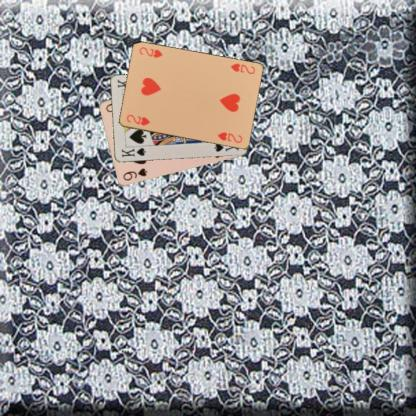2h: (228, 61, 256, 76), (124, 112, 150, 127)
9s: (120, 166, 148, 182)
Ks: (119, 146, 147, 158)
